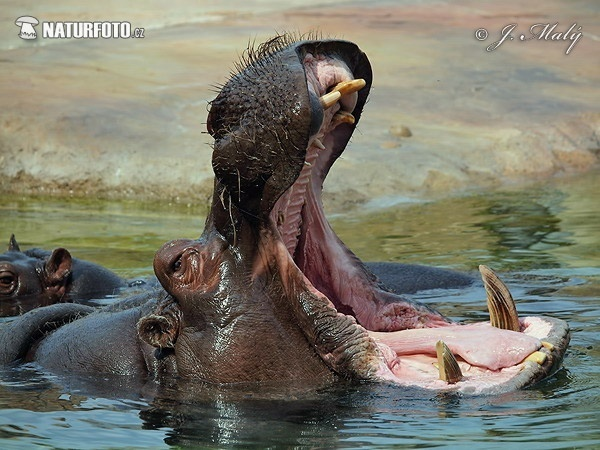hipopotamo: (38, 23, 578, 421), (1, 227, 142, 316)
